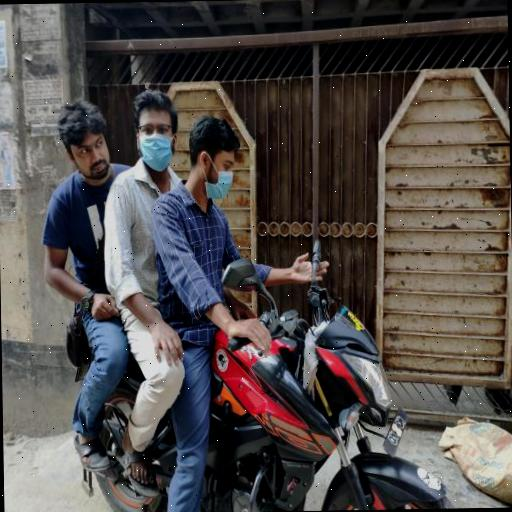no helmet: (186, 94, 278, 221)
triple riding: (28, 69, 445, 512)
